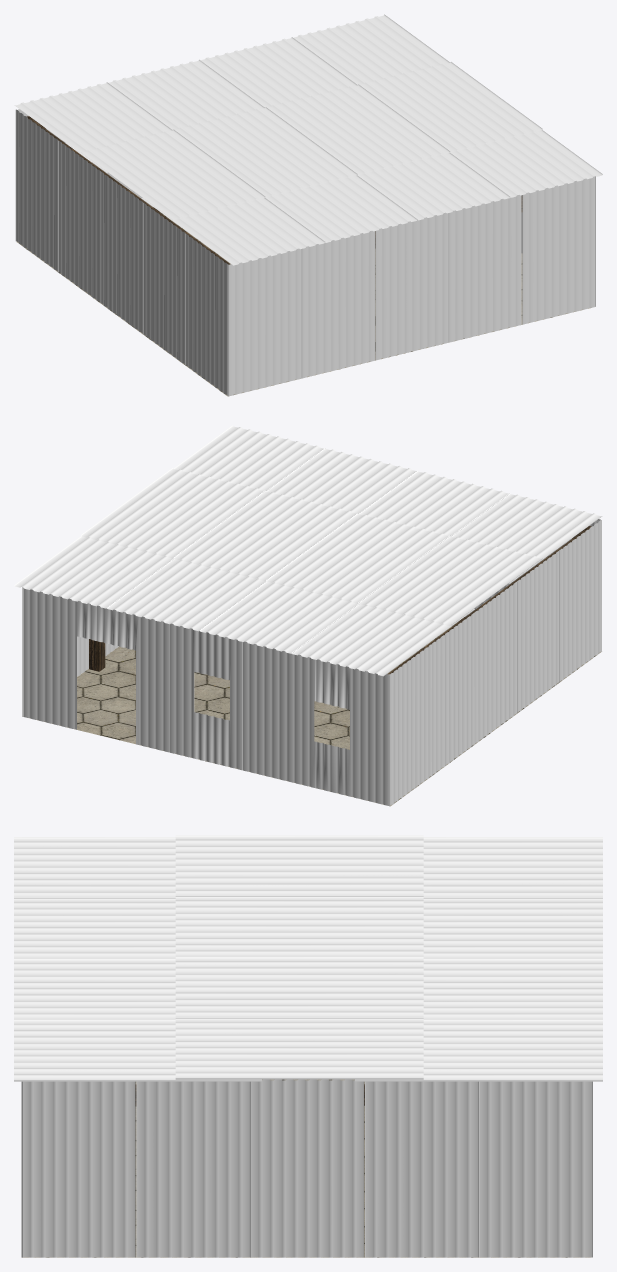
File: MetalHouse.fbx
3 views of the same model, one above another, from view 1: azimuth 30°, elevation 25°; view 2: azimuth 150°, elevation 25°; view 3: azimuth 270°, elevation 25° (orthographic). The views are drawn at different scales.
Parts seen in each view (by area): view 1: Roof, Cube.001, Right, Floor; view 2: Roof, Front, Right, Floor, Left; view 3: Roof, Left, Floor.
Boxes of the visible parts, x1=… form: Roof: x1=14, y1=14, x2=602, y2=265; Cube.001: x1=228, y1=176, x2=595, y2=396; Right: x1=15, y1=109, x2=230, y2=395; Floor: x1=16, y1=213, x2=590, y2=396; Roof: x1=14, y1=425, x2=601, y2=676; Front: x1=23, y1=588, x2=389, y2=805; Right: x1=387, y1=520, x2=601, y2=806; Floor: x1=29, y1=622, x2=601, y2=806; Left: x1=22, y1=587, x2=118, y2=716; Roof: x1=14, y1=835, x2=602, y2=1081; Left: x1=21, y1=1079, x2=592, y2=1257; Floor: x1=23, y1=1079, x2=591, y2=1257.
Size of the model in its own units: 8.41 by 2.91 by 8.55.
